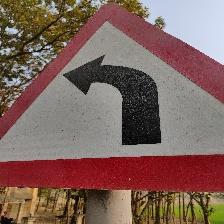Left-Turn: (1, 3, 223, 219)
